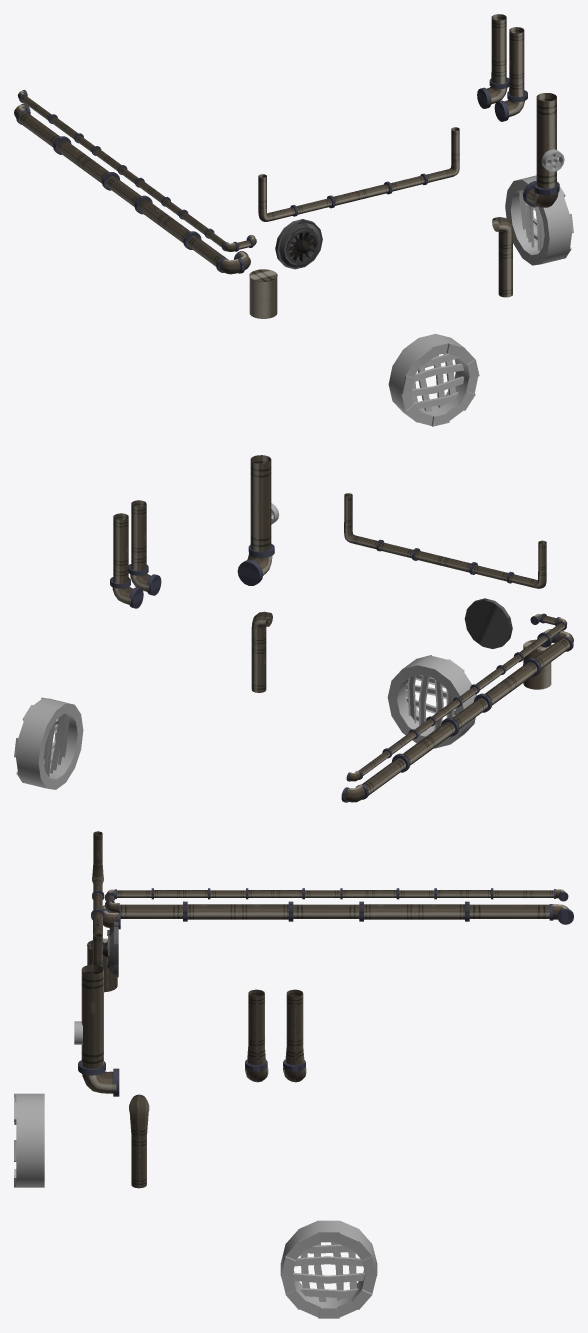
The model's file is Modulo1.fbx.
3 views of the same model, one above another, from view 1: azimuth 30°, elevation 25°; view 2: azimuth 150°, elevation 25°; view 3: azimuth 270°, elevation 25° (orthographic). The views are drawn at different scales.
Parts seen in each view (by area): view 1: Rejilla4, Rejilla5, Ventilador1, TuboSimple1, Barril1, Tubo_Vuelta3, Tubo_Vuelta1, Tubo_Vuelta2, polySurface80, polySurface81, TuboArriba2, polySurface75 (+5 smaller); view 2: Rejilla5, Rejilla4, TuboSimple1, Ventilador1, Tubo_Vuelta3, Tubo_Vuelta2, Tubo_Vuelta1, polySurface80, polySurface81, polySurface75, TuboArriba2, TuboArriba1 (+7 smaller); view 3: Rejilla5, Rejilla4, TuboSimple1, polySurface80, polySurface81, Tubo_Vuelta3, Tubo_Vuelta2, Tubo_Vuelta1, TuboSimple4, TuboSimple3, polySurface75, TuboSimple2 (+2 smaller).
Boxes of the visible parts, x1,y1,x2,y2 form: Rejilla4: (388,333,479,426); Rejilla5: (505,175,573,265); Ventilador1: (275,219,322,269); TuboSimple1: (536,93,556,188); Barril1: (249,269,277,318); Tubo_Vuelta3: (492,217,512,297); Tubo_Vuelta1: (506,27,524,110); Tubo_Vuelta2: (488,14,506,97); polySurface80: (134,195,201,249); polySurface81: (53,136,119,190); TuboArriba2: (258,174,297,221); polySurface75: (523,181,559,207); Rejilla5: (14,697,83,789); Rejilla4: (387,655,477,748); TuboSimple1: (250,455,271,551); Ventilador1: (464,598,512,648); Tubo_Vuelta3: (251,611,272,692); Tubo_Vuelta2: (113,513,132,594); Tubo_Vuelta1: (131,500,150,581); polySurface80: (474,657,541,712); polySurface81: (392,717,459,772); polySurface75: (237,544,274,585); TuboArriba2: (506,540,546,588); TuboArriba1: (344,493,383,551); Rejilla5: (280,1220,377,1318); Rejilla4: (14,1093,44,1187); TuboSimple1: (81,964,103,1068); polySurface80: (183,901,293,921); polySurface81: (359,901,469,921); Tubo_Vuelta3: (129,1094,149,1188); Tubo_Vuelta2: (285,989,304,1065); Tubo_Vuelta1: (245,989,265,1074); TuboSimple4: (469,904,549,918); TuboSimple3: (293,904,359,918); polySurface75: (78,1060,119,1096); TuboSimple2: (116,904,182,918).
Bounding box in the file's own units: 20595 × 12105 × 21239.
